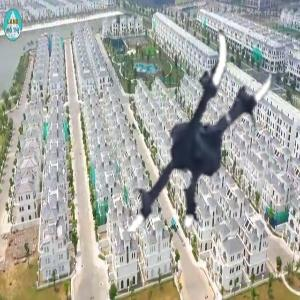drone: (72, 22, 292, 242)
